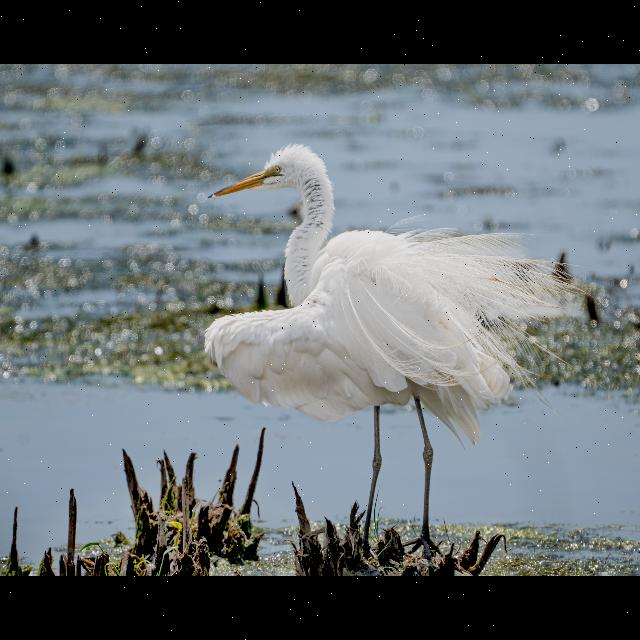egret: (196, 143, 560, 515)
